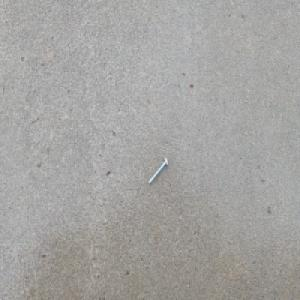Nail: (147, 155, 168, 186)
